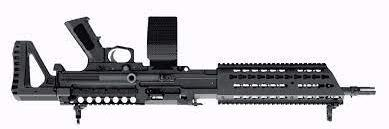larga: (10, 16, 377, 126)
